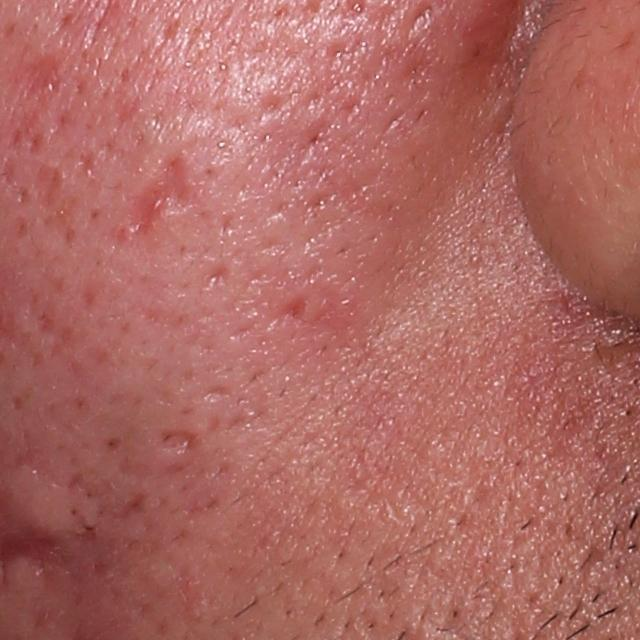atrophic_scar: (132, 152, 200, 248), (29, 165, 78, 250), (4, 47, 68, 105), (272, 289, 308, 332), (157, 421, 198, 454), (199, 264, 227, 288)
hypertrophic_scar: (3, 462, 103, 541)
